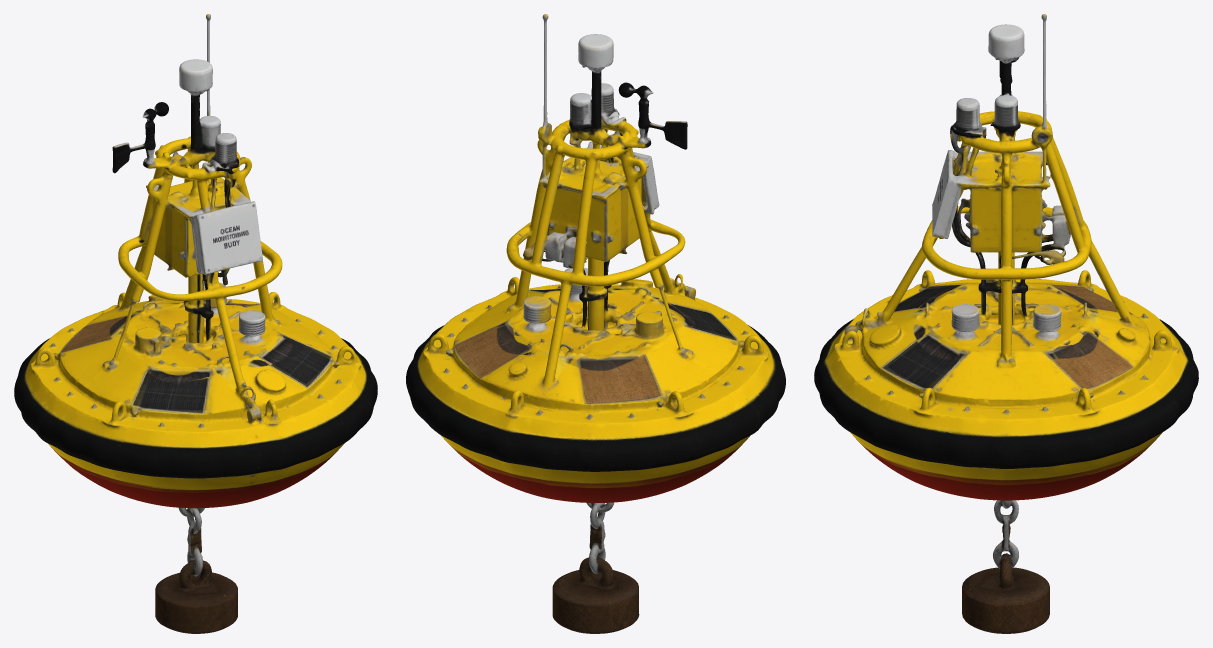
The model's file is moored_buoy.glb.
The picture shows the model from 3 angles, left to right: view 1: azimuth 30°, elevation 25°; view 2: azimuth 150°, elevation 25°; view 3: azimuth 270°, elevation 25°; orthographic projection. The views are drawn at different scales.
Parts seen in each view (by area): view 1: mesh_node; view 2: mesh_node; view 3: mesh_node.
Part boxes in pixels (left/top/right/bottom): mesh_node: left=14, top=14, right=377, bottom=633; mesh_node: left=406, top=14, right=785, bottom=633; mesh_node: left=814, top=14, right=1198, bottom=633.
Size of the model in its own units: 1.07 by 1.9 by 1.07.
1 material, 1 textured.
